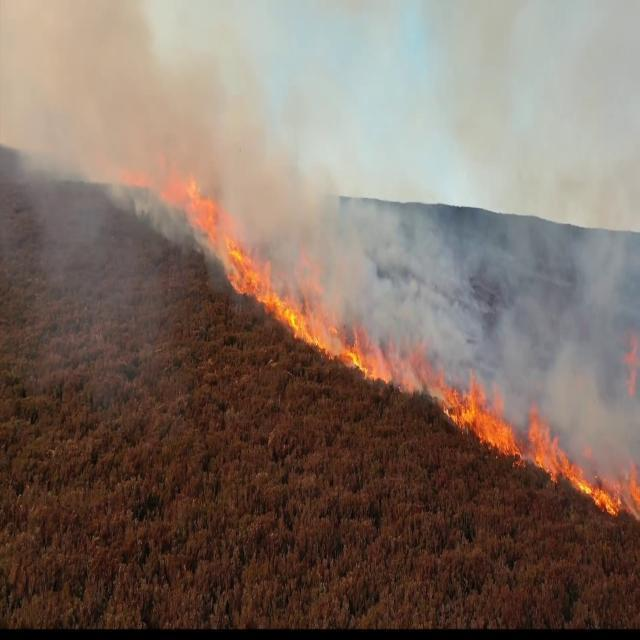Fire: (528, 401, 623, 521), (226, 238, 322, 352), (442, 372, 524, 464), (347, 322, 379, 387), (626, 458, 640, 526)
Smoke: (526, 166, 640, 466), (364, 178, 487, 308)
